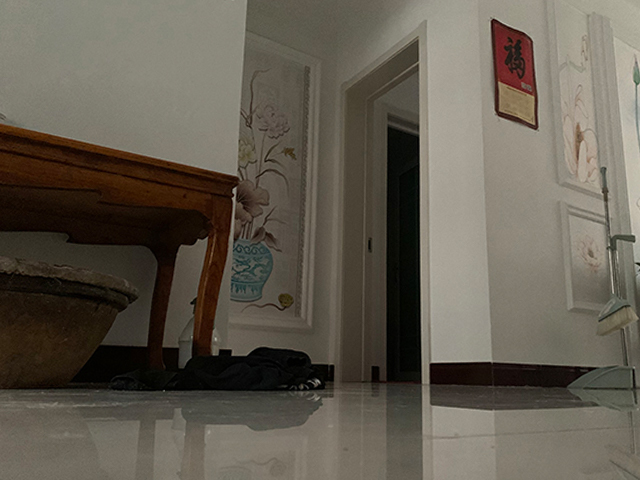table: (1, 123, 241, 377)
